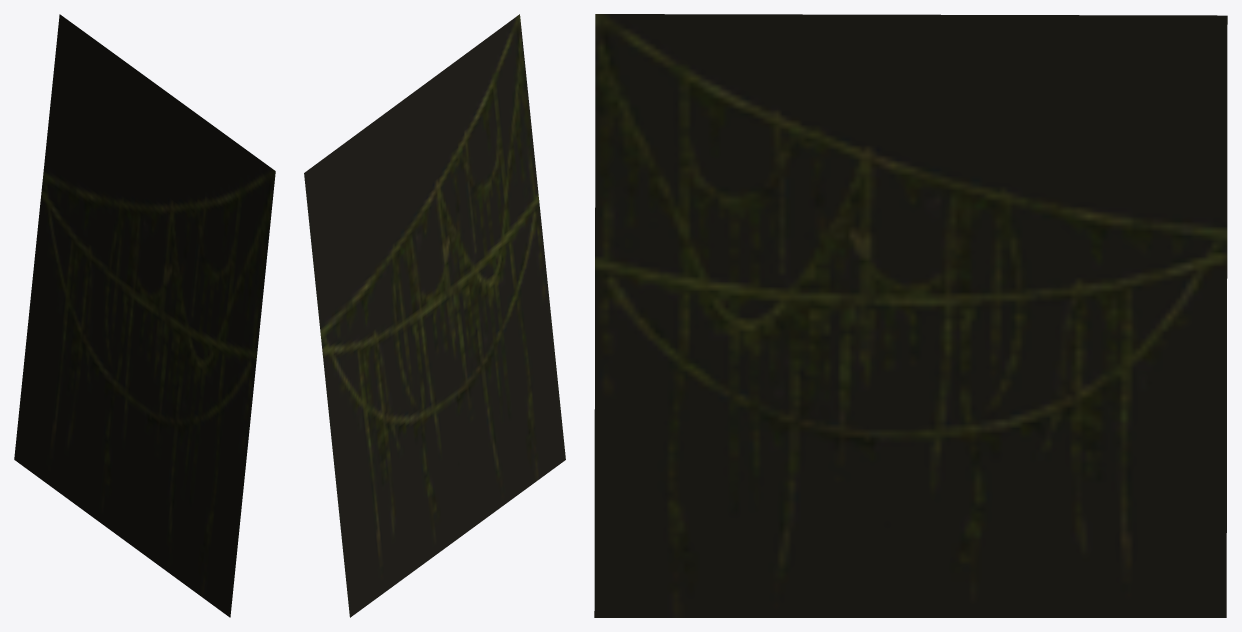
Rendered from mlzd_tengm_03.FBX.
3 views of the same model, side by side, from view 1: azimuth 30°, elevation 25°; view 2: azimuth 150°, elevation 25°; view 3: azimuth 270°, elevation 25° (orthographic). The views are drawn at different scales.
Visible parts, largest first — view 1: mlzd_tengm_03; view 2: mlzd_tengm_03; view 3: mlzd_tengm_03.
Boxes of the visible parts, x1,y1,x2,y2 form: mlzd_tengm_03: (14,14,275,617); mlzd_tengm_03: (304,14,565,617); mlzd_tengm_03: (594,14,1227,617).
Size of the model in its own units: 58.77 by 535 by 482.
